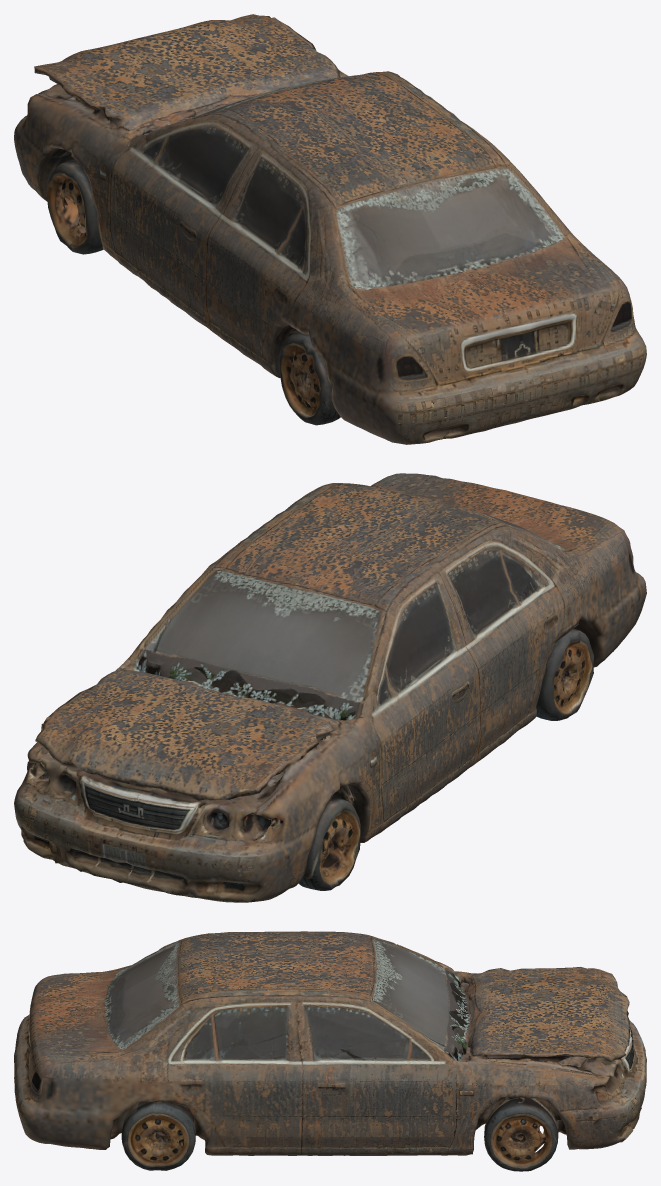
File: Prop_CarSedan.glb
3 views of the same model, one above another, from view 1: azimuth 30°, elevation 25°; view 2: azimuth 150°, elevation 25°; view 3: azimuth 270°, elevation 25° (orthographic). The views are drawn at different scales.
Parts seen in each view (by area): view 1: texture_mapping; view 2: texture_mapping; view 3: texture_mapping.
Boxes of the visible parts, x1,y1,x2,y2 form: texture_mapping: [14, 14, 646, 444]; texture_mapping: [14, 473, 646, 902]; texture_mapping: [14, 931, 646, 1171].
Size of the model in its own units: 0.3914 by 0.2826 by 0.9954.
Materials: 1 (1 with a texture image).
